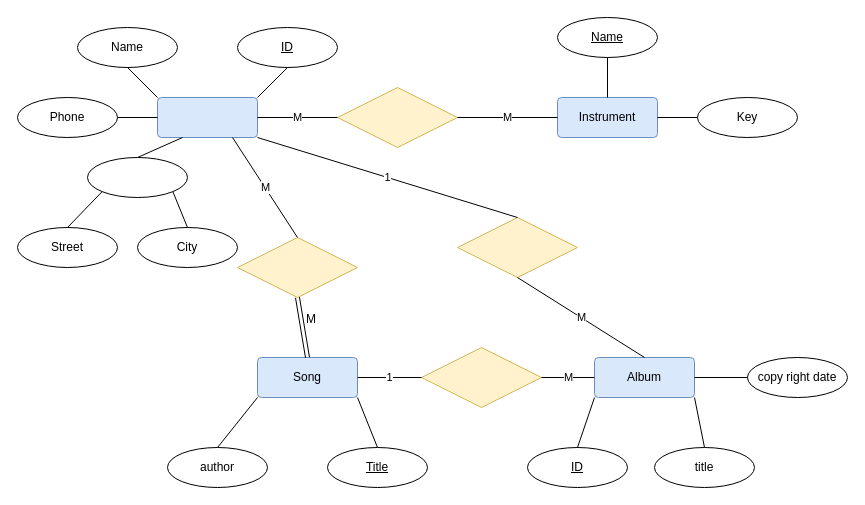
Image size: 865x505. Some labels were removed from this diagram. The centre of each missing label's shape, as x and y in pixels:
Address: the point at 137,177
Has: the point at 481,377
Musician: the point at 207,117
Play: the point at 397,117
Preform: the point at 297,267
Produce: the point at 517,247
